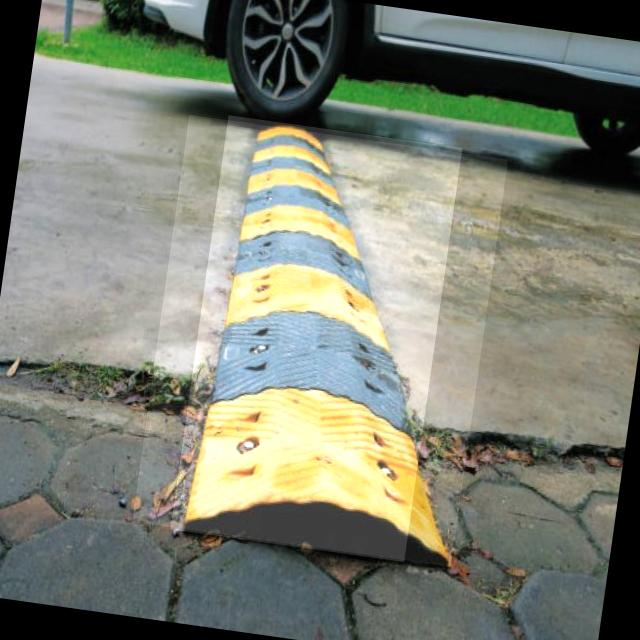bump: (170, 115, 462, 562)
